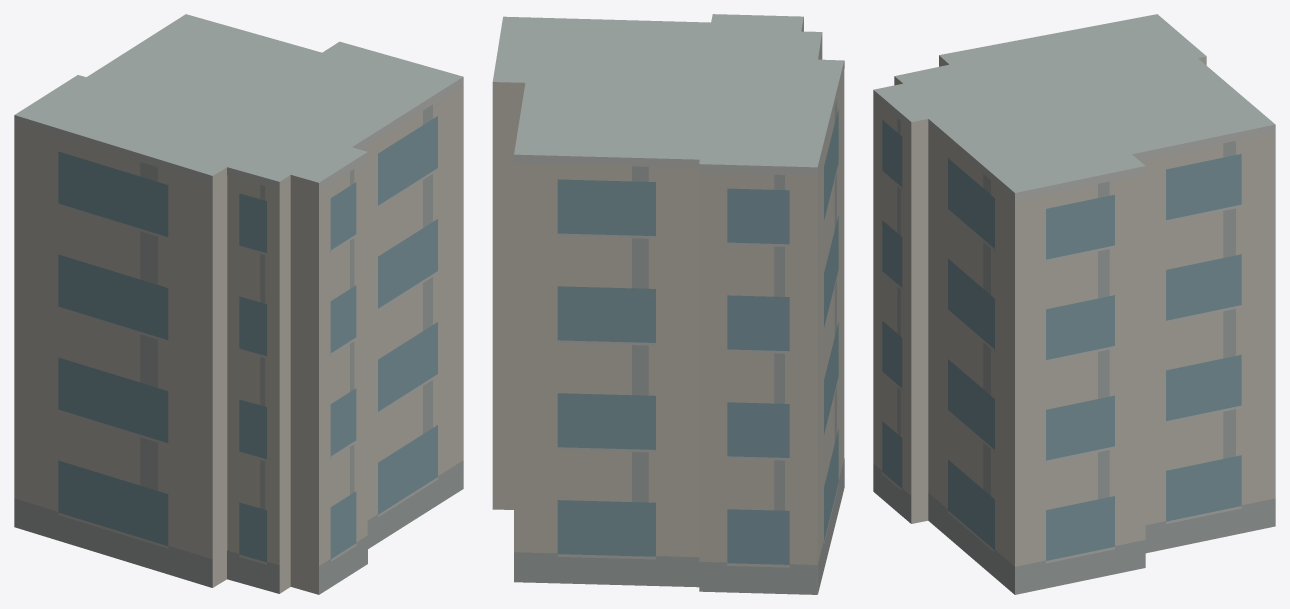
Rendered from residential-a1cdae4f-2143-45e4-bef1-0dc97aad7f72.glb.
3 views of the same model, side by side, from view 1: azimuth 30°, elevation 25°; view 2: azimuth 150°, elevation 25°; view 3: azimuth 270°, elevation 25° (orthographic). The views are drawn at different scales.
Visible parts, largest first — view 1: residential-a1cdae4f-2143-45e4-bef1-0dc97aad7f72.tmp; view 2: residential-a1cdae4f-2143-45e4-bef1-0dc97aad7f72.tmp; view 3: residential-a1cdae4f-2143-45e4-bef1-0dc97aad7f72.tmp.
Part boxes in pixels (x1=…): residential-a1cdae4f-2143-45e4-bef1-0dc97aad7f72.tmp: x1=14, y1=14, x2=463, y2=594; residential-a1cdae4f-2143-45e4-bef1-0dc97aad7f72.tmp: x1=492, y1=14, x2=844, y2=594; residential-a1cdae4f-2143-45e4-bef1-0dc97aad7f72.tmp: x1=873, y1=14, x2=1275, y2=594.
Bounding box in the file's own units: 11.67 × 12.2 × 11.08.
